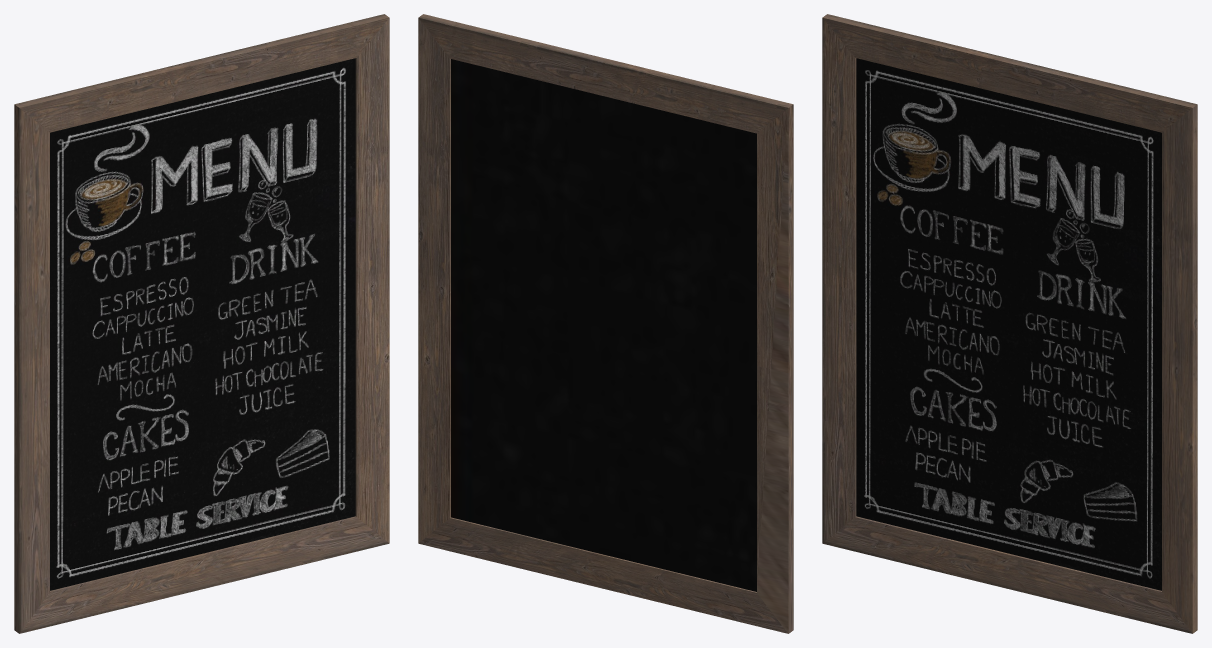
File: SM_Chalk_Board_02.glb
3 renders of one model, left to right at view 1: azimuth 30°, elevation 25°; view 2: azimuth 150°, elevation 25°; view 3: azimuth 330°, elevation 25°, orthographic.
Visible parts, largest first — view 1: SM_Chalk_Board_02; view 2: SM_Chalk_Board_02; view 3: SM_Chalk_Board_02.
Part boxes in pixels (x1,y1,x2,y2): SM_Chalk_Board_02: [14, 14, 389, 633]; SM_Chalk_Board_02: [418, 14, 793, 633]; SM_Chalk_Board_02: [822, 14, 1197, 633].
Bounding box in the file's own units: 0.8434 × 1.15 × 0.0198.
Materials: 1 (1 with a texture image).
